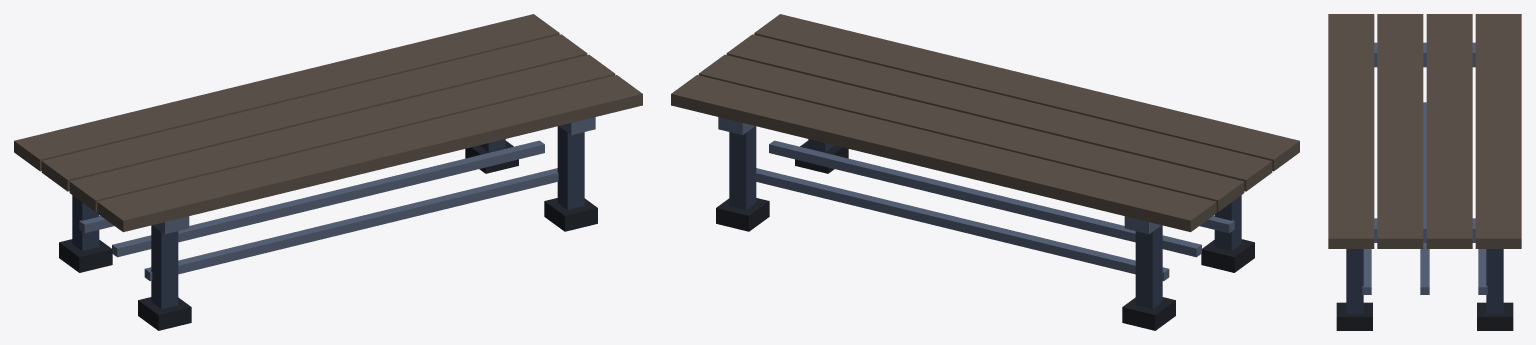
File: lab_locker_bench.glb
3 renders of one model, left to right at view 1: azimuth 30°, elevation 25°; view 2: azimuth 150°, elevation 25°; view 3: azimuth 270°, elevation 25°, orthographic. The views are drawn at different scales.
Parts seen in each view (by area): view 1: seat_slat, seat_support, leg, foot; view 2: seat_slat, seat_support, leg, foot; view 3: seat_slat, seat_support, leg, foot.
Part boxes in pixels (x1=…): seat_slat: x1=14, y1=14, x2=642, y2=232; seat_support: x1=79, y1=117, x2=595, y2=281; leg: x1=72, y1=126, x2=584, y2=309; foot: x1=59, y1=141, x2=597, y2=330; seat_slat: x1=671, y1=14, x2=1299, y2=232; seat_support: x1=718, y1=117, x2=1234, y2=281; leg: x1=729, y1=126, x2=1241, y2=309; foot: x1=716, y1=141, x2=1254, y2=330; seat_slat: x1=1328, y1=14, x2=1521, y2=248; seat_support: x1=1362, y1=42, x2=1487, y2=294; leg: x1=1346, y1=249, x2=1503, y2=313; foot: x1=1336, y1=302, x2=1513, y2=330.
Size of the model in its own units: 2.2 by 0.5 by 0.8.
